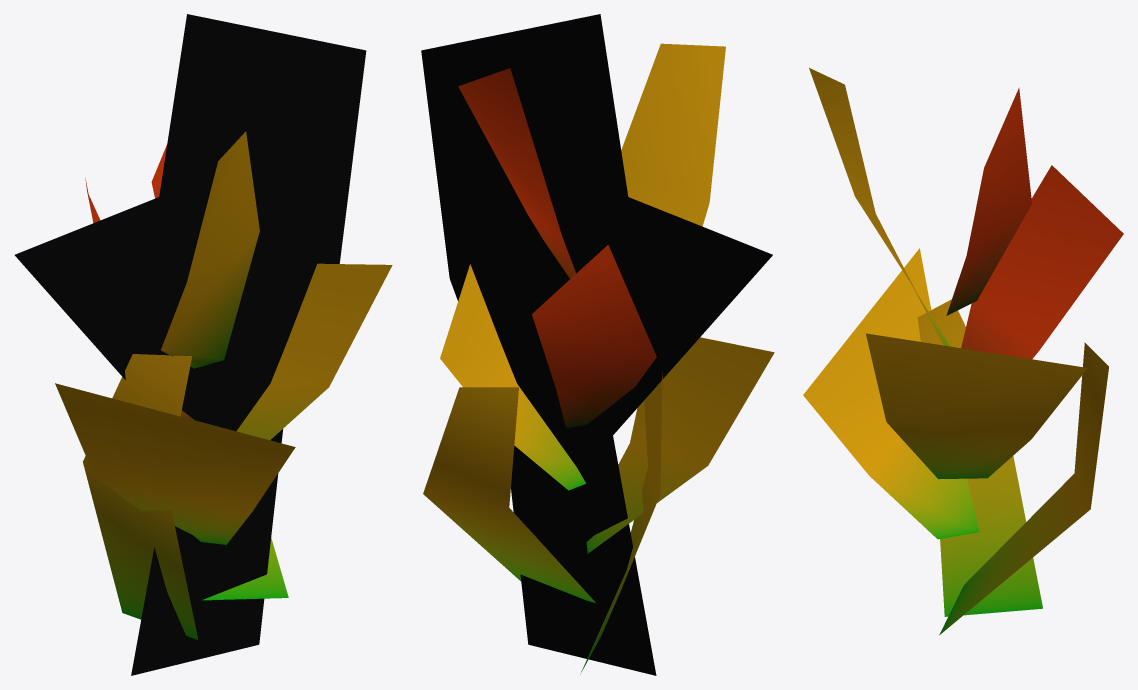
File: Seaweed_LOD1_Var4_sdpjN.fbx
3 renders of one model, left to right at view 1: azimuth 30°, elevation 25°; view 2: azimuth 150°, elevation 25°; view 3: azimuth 270°, elevation 25°, orthographic. The views are drawn at different scales.
Parts seen in each view (by area): view 1: merge1; view 2: merge1; view 3: merge1.
Boxes of the visible parts, <box> form: merge1: <box>14,14,392,675</box>; merge1: <box>421,14,774,675</box>; merge1: <box>803,68,1123,635</box>.
Bounding box in the file's own units: 13.25 × 23.31 × 10.8.
